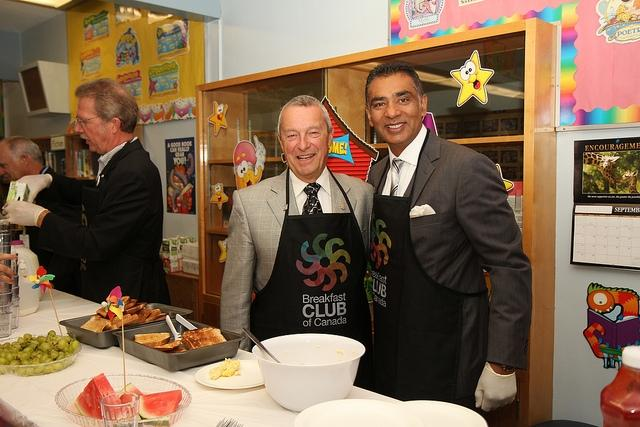grape: (40, 342, 50, 353), (40, 353, 50, 363), (71, 340, 79, 350), (20, 353, 30, 361), (1, 342, 10, 350), (48, 348, 58, 354), (31, 352, 38, 360), (2, 358, 10, 365), (10, 341, 18, 347), (64, 336, 72, 342), (49, 330, 56, 336), (24, 335, 31, 341), (28, 339, 34, 345), (0, 358, 6, 364), (18, 360, 22, 362), (35, 348, 38, 350)
watermelon: (74, 373, 115, 420), (138, 390, 182, 420), (120, 382, 144, 396)
